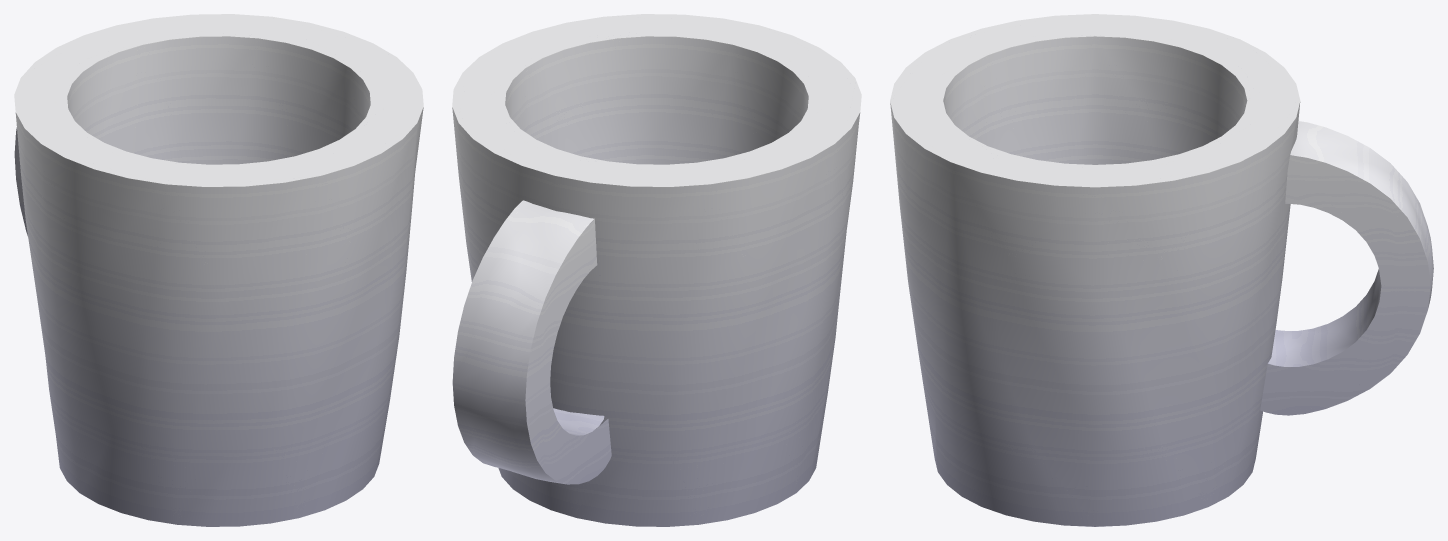
File: cup.glb
The picture shows the model from 3 angles, left to right: view 1: azimuth 30°, elevation 25°; view 2: azimuth 150°, elevation 25°; view 3: azimuth 270°, elevation 25°; orthographic projection.
Parts seen in each view (by area): view 1: cup; view 2: cup; view 3: cup.
Part boxes in pixels (<box>): cup: <box>14,14,423,526</box>; cup: <box>452,14,861,526</box>; cup: <box>890,14,1433,526</box>.
Size of the model in its own units: 0.2075 by 0.2 by 0.2751.
Materials: 1 (1 with a texture image).
